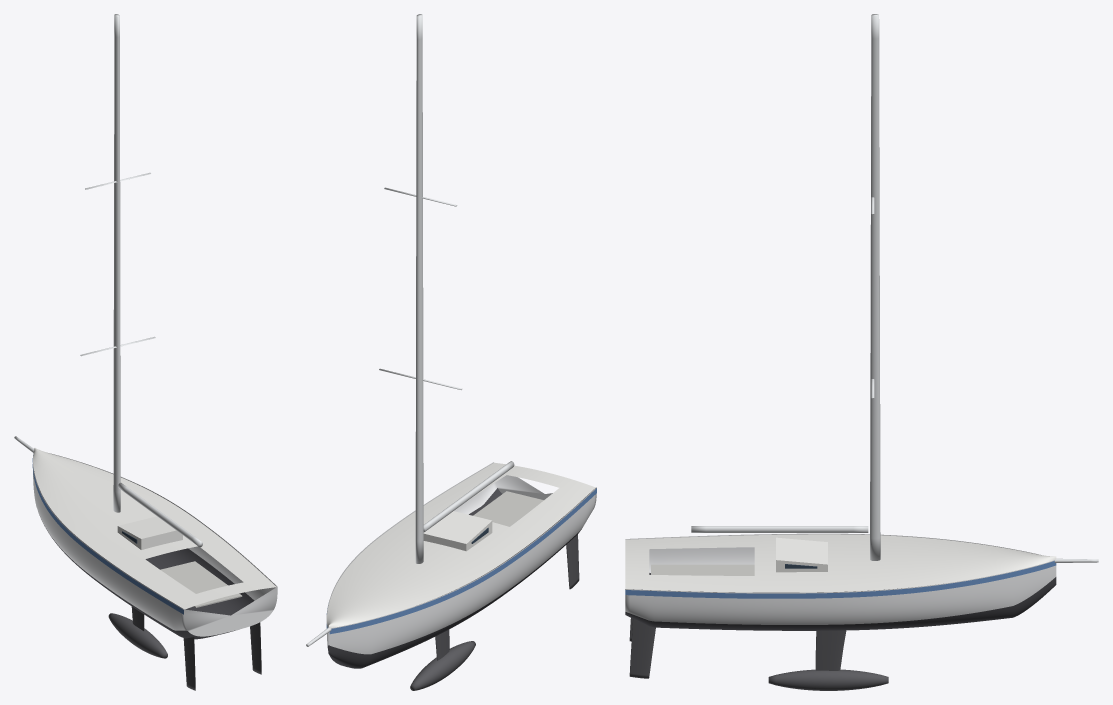
File: roaring_forty.glb
The picture shows the model from 3 angles, left to right: view 1: azimuth 30°, elevation 25°; view 2: azimuth 150°, elevation 25°; view 3: azimuth 270°, elevation 25°; orthographic projection. The views are drawn at different scales.
Visible parts, largest first — view 1: pont, coque, mat, fond, cockpit, rouf, app_bulbe, bande, pivot_bome, app_safran, app_safran.001; view 2: pont, coque, mat, fond, rouf, bande, cockpit, app_bulbe, pivot_bome, app_safran; view 3: pont, coque, mat, fond, bande, app_bulbe, rouf, pivot_bome, cockpit, app_safran.001, app_quille.
Boxes of the visible parts, x1=… form: pont: x1=33, y1=448, x2=276, y2=609; coque: x1=33, y1=453, x2=277, y2=636; mat: x1=113, y1=14, x2=120, y2=512; fond: x1=34, y1=471, x2=254, y2=639; cockpit: x1=160, y1=561, x2=242, y2=607; rouf: x1=117, y1=516, x2=182, y2=549; app_bulbe: x1=108, y1=613, x2=167, y2=658; bande: x1=32, y1=455, x2=183, y2=614; pivot_bome: x1=118, y1=482, x2=202, y2=547; app_safran: x1=183, y1=637, x2=195, y2=690; app_safran.001: x1=250, y1=622, x2=261, y2=674; pont: x1=327, y1=462, x2=595, y2=628; coque: x1=326, y1=462, x2=596, y2=654; mat: x1=415, y1=14, x2=423, y2=563; fond: x1=327, y1=488, x2=581, y2=668; rouf: x1=423, y1=511, x2=492, y2=551; bande: x1=326, y1=488, x2=596, y2=634; cockpit: x1=473, y1=491, x2=543, y2=526; app_bulbe: x1=410, y1=641, x2=475, y2=690; pivot_bome: x1=423, y1=461, x2=514, y2=532; app_safran: x1=566, y1=534, x2=579, y2=589; pont: x1=625, y1=534, x2=1056, y2=592; coque: x1=625, y1=533, x2=1056, y2=624; mat: x1=870, y1=14, x2=880, y2=560; fond: x1=625, y1=573, x2=1056, y2=630; bande: x1=625, y1=561, x2=1056, y2=598; app_bulbe: x1=768, y1=669, x2=888, y2=690; rouf: x1=776, y1=537, x2=827, y2=572; pivot_bome: x1=691, y1=526, x2=868, y2=532; cockpit: x1=651, y1=564, x2=754, y2=590; app_safran.001: x1=629, y1=619, x2=655, y2=678; app_quille: x1=815, y1=630, x2=846, y2=670.
Size of the model in its own units: 3.96 by 21.06 by 13.39.
